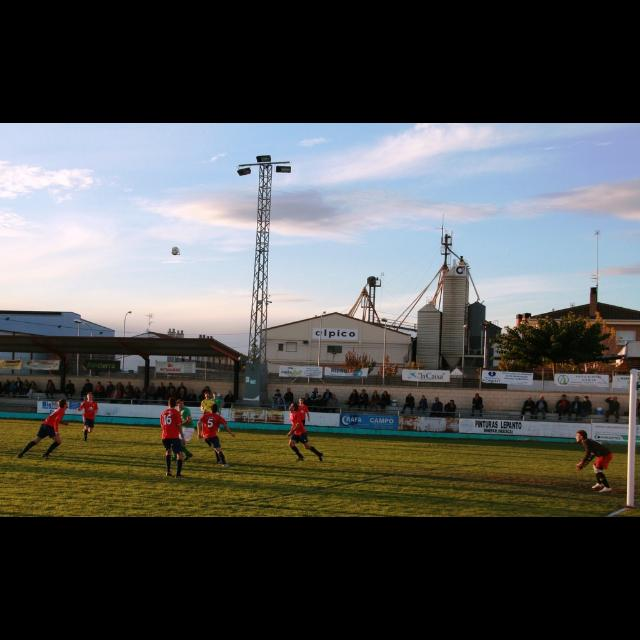Football: (172, 247, 180, 255)
